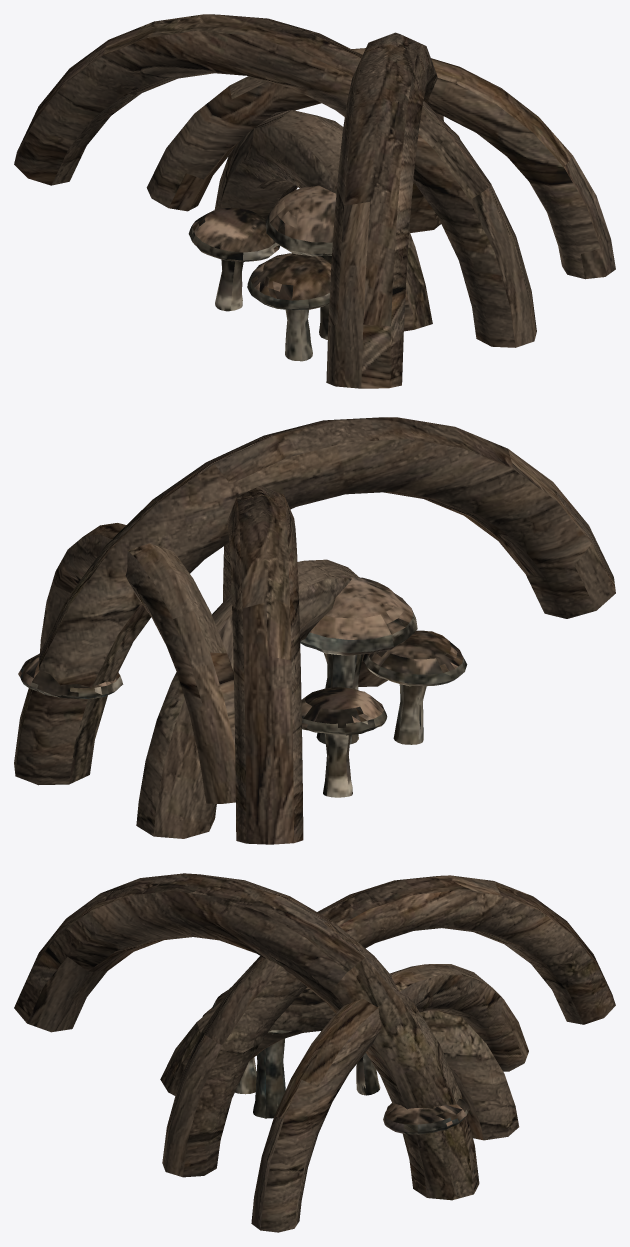
The model's file is roots-with-mushrooms-v01-photo.glb.
3 views of the same model, one above another, from view 1: azimuth 30°, elevation 25°; view 2: azimuth 150°, elevation 25°; view 3: azimuth 270°, elevation 25° (orthographic). The views are drawn at different scales.
Parts seen in each view (by area): view 1: roots-with-mushrooms; view 2: roots-with-mushrooms; view 3: roots-with-mushrooms.
Boxes of the visible parts, <box> form: roots-with-mushrooms: <box>14,14,615,388</box>; roots-with-mushrooms: <box>14,417,615,844</box>; roots-with-mushrooms: <box>14,873,615,1232</box>.
Bounding box in the file's own units: 1.53 × 0.9698 × 2.15.
Materials: 2 (2 with a texture image).
